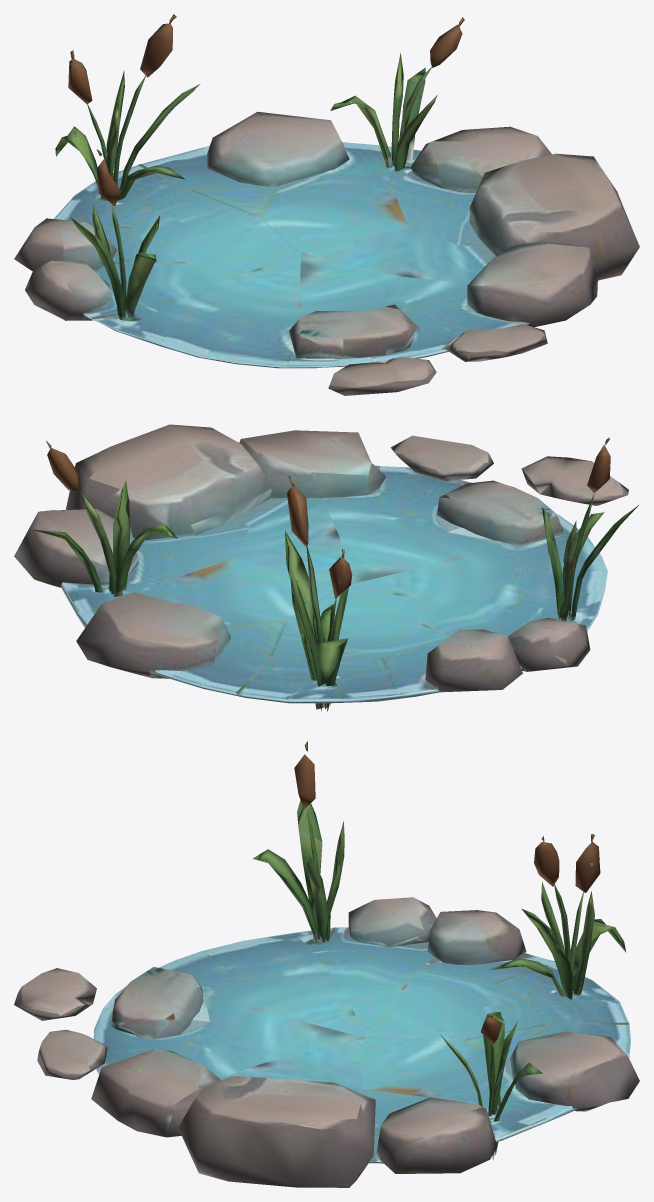
Rendered from s-claire-semis.glb.
The picture shows the model from 3 angles, top to bottom: view 1: azimuth 30°, elevation 25°; view 2: azimuth 150°, elevation 25°; view 3: azimuth 270°, elevation 25°; orthographic projection. The views are drawn at different scales.
Visible parts, largest first — view 1: s-claire-semis; view 2: s-claire-semis; view 3: s-claire-semis.
Part boxes in pixels (box(x1,y1,x2,y2)): s-claire-semis: box(14, 14, 639, 395); s-claire-semis: box(14, 424, 638, 711); s-claire-semis: box(14, 741, 639, 1187).
Size of the model in its own units: 1.99 by 0.7929 by 1.99.
1 material, 1 textured.
